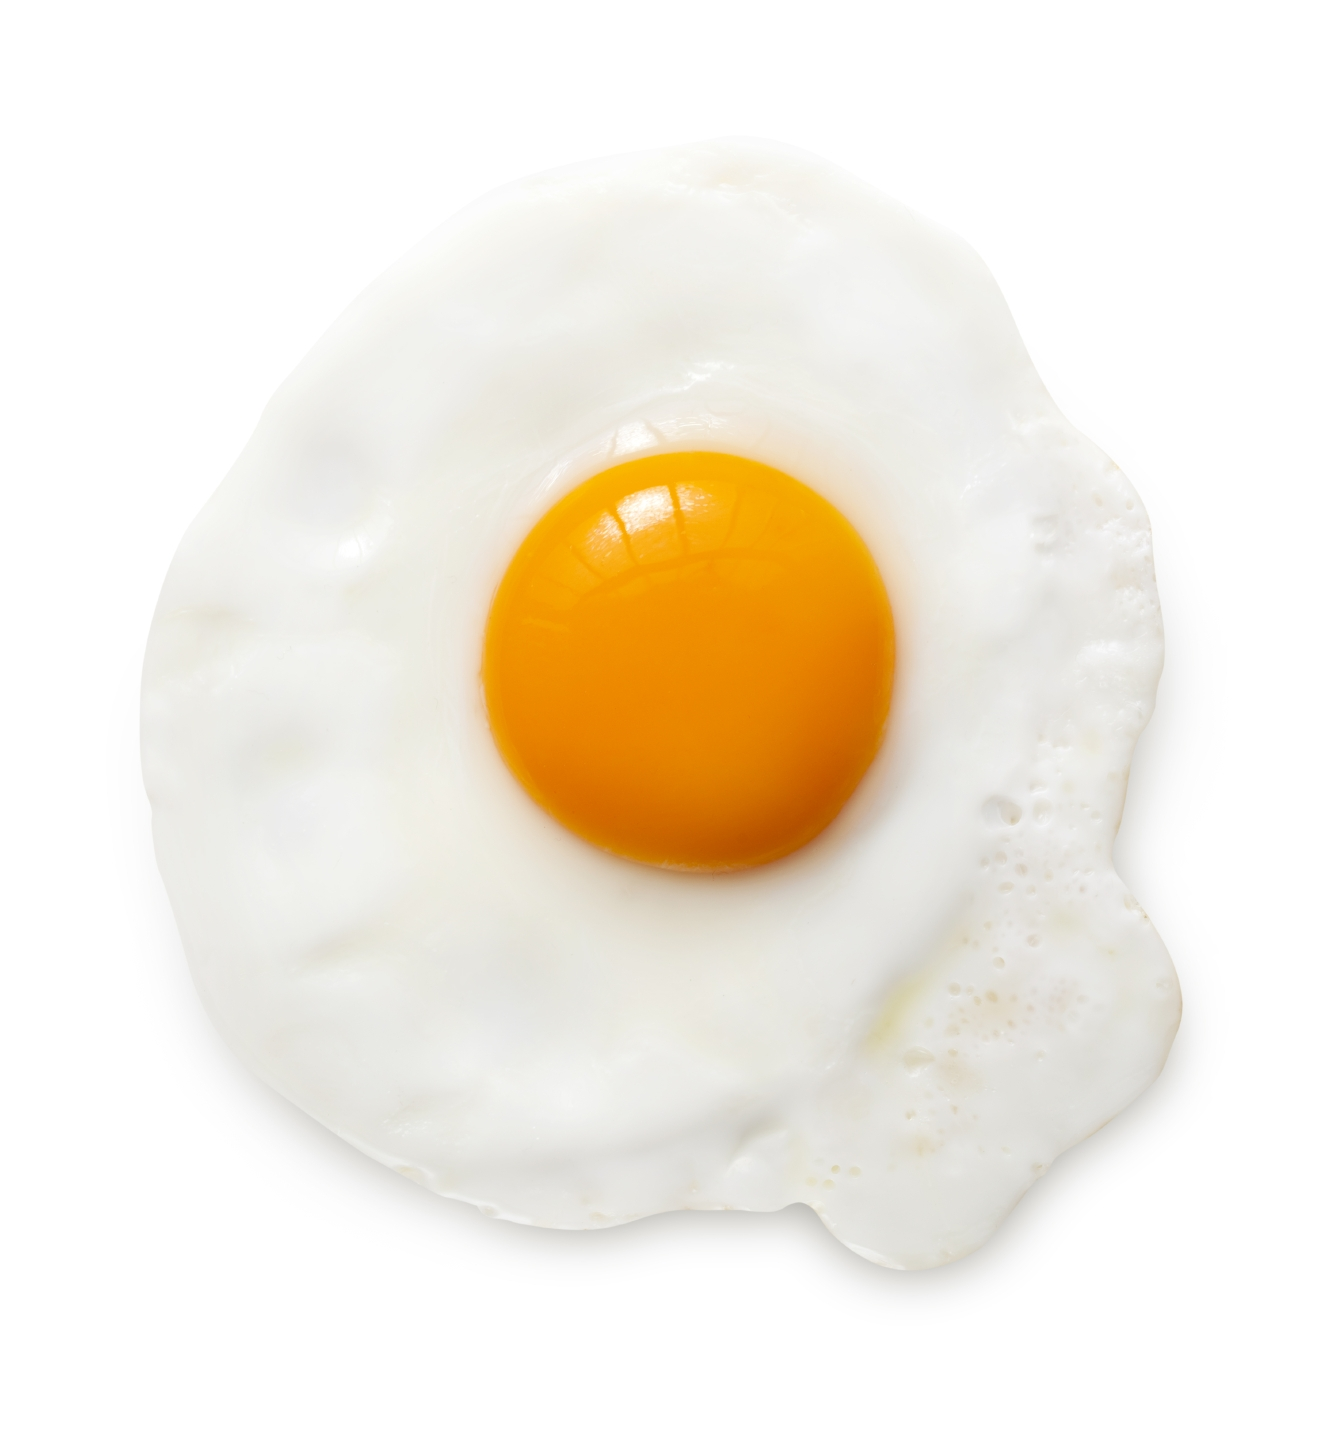fried egg: (150, 208, 1165, 1227)
